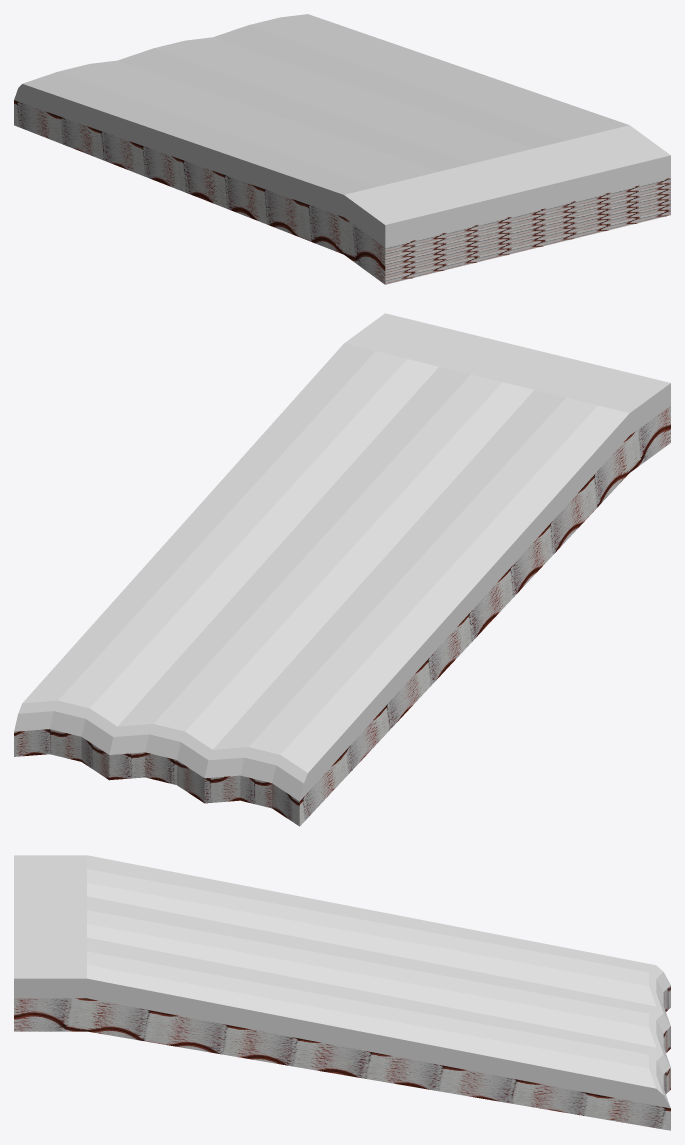
The model's file is Roof.fbx.
3 renders of one model, top to bottom at view 1: azimuth 30°, elevation 25°; view 2: azimuth 150°, elevation 25°; view 3: azimuth 270°, elevation 25°, orthographic. The views are drawn at different scales.
Visible parts, largest first — view 1: Cube.039; view 2: Cube.039; view 3: Cube.039.
Boxes of the visible parts, left/top/right/bottom form: Cube.039: left=14, top=14, right=670, bottom=284; Cube.039: left=14, top=313, right=670, bottom=826; Cube.039: left=14, top=855, right=670, bottom=1130.
Size of the model in its own units: 200 by 115 by 450.
